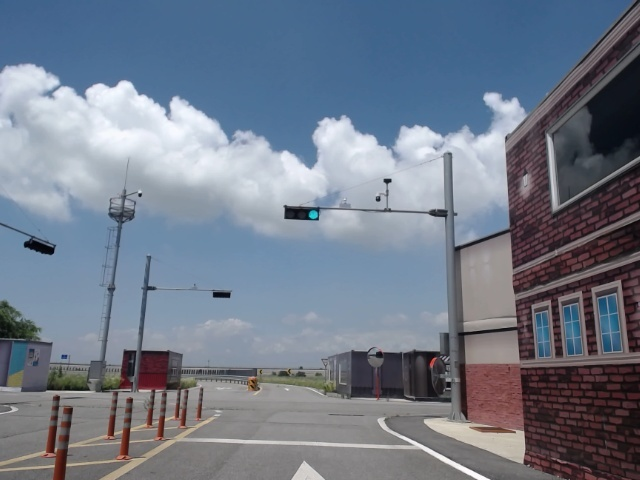green_3: (285, 208, 318, 219)
